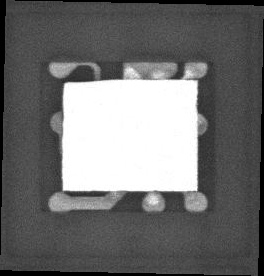DIE_BROKEN: (62, 77, 96, 84)
